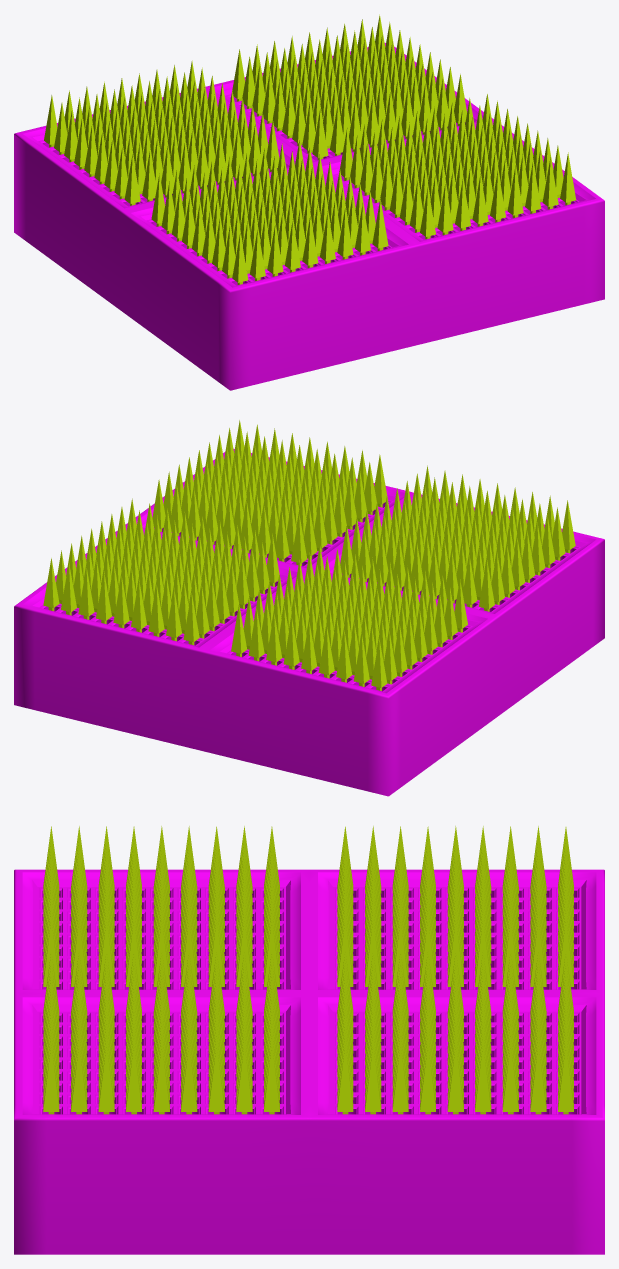
File: Spike_Trap.fbx
The picture shows the model from 3 angles, top to bottom: view 1: azimuth 30°, elevation 25°; view 2: azimuth 150°, elevation 25°; view 3: azimuth 270°, elevation 25°; orthographic projection. The views are drawn at different scales.
Visible parts, largest first — view 1: SPIKE TRAP BASE; view 2: SPIKE TRAP BASE; view 3: SPIKE TRAP BASE, Spikes_152, Spikes_314, Spikes_305, Spikes_296, Spikes_098, Spikes_125, Spikes_134, Spikes_143, Spikes_251, Spikes_260, Spikes_287 (+7 smaller).
Boxes of the visible parts, box(x1,y1,x2,y2) form: SPIKE TRAP BASE: box(14, 43, 604, 390); SPIKE TRAP BASE: box(14, 448, 604, 796); SPIKE TRAP BASE: box(14, 869, 604, 1254); Spikes_152: box(236, 1044, 252, 1114); Spikes_314: box(530, 1044, 546, 1114); Spikes_305: box(502, 1045, 518, 1114); Spikes_296: box(475, 1044, 491, 1114); Spikes_098: box(71, 1044, 87, 1114); Spikes_125: box(153, 1044, 169, 1114); Spikes_134: box(181, 1044, 197, 1114); Spikes_143: box(208, 1045, 224, 1114); Spikes_251: box(337, 1045, 353, 1114); Spikes_260: box(365, 1044, 381, 1114); Spikes_287: box(447, 1044, 463, 1114).
Bounding box in the file's own units: 400 × 146 × 400.
